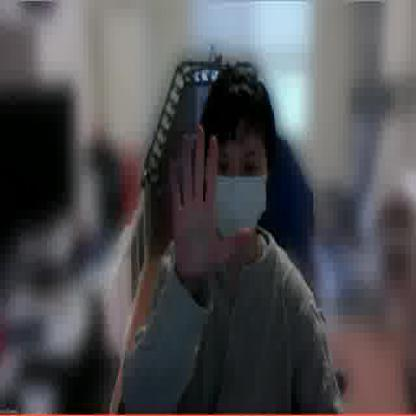five: (166, 125, 251, 282)
